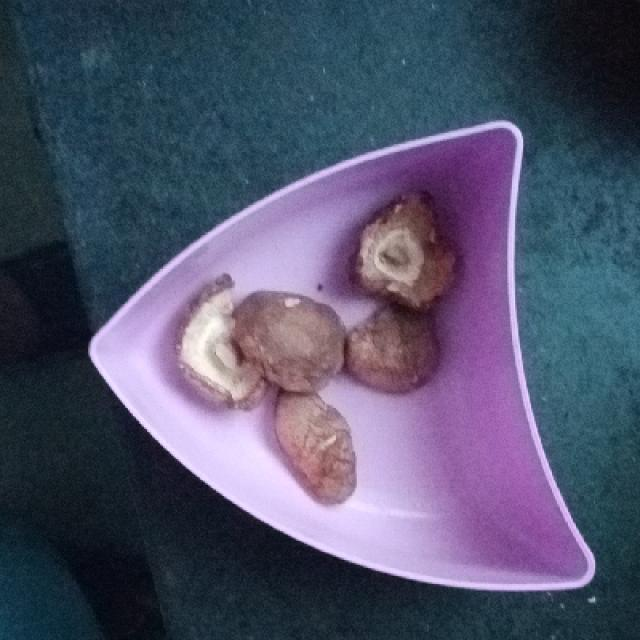Lentinus edodes: (174, 274, 268, 415), (354, 188, 458, 310), (233, 287, 346, 394), (273, 391, 358, 508), (344, 307, 441, 389)
